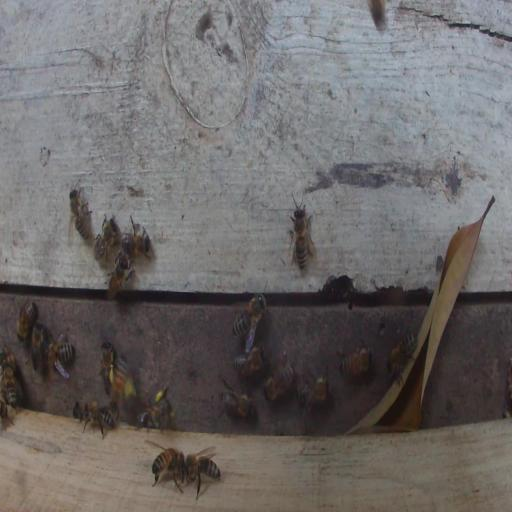bee: (289, 195, 315, 270), (184, 448, 220, 498), (232, 292, 267, 337), (220, 377, 256, 420), (68, 179, 92, 242), (387, 329, 418, 377), (107, 250, 136, 299), (296, 370, 331, 410), (151, 448, 182, 492), (46, 334, 75, 378), (121, 217, 151, 259), (262, 364, 295, 402), (110, 357, 133, 409), (94, 214, 119, 260), (234, 346, 265, 377), (30, 322, 49, 372), (1, 367, 21, 414), (17, 299, 38, 342), (77, 405, 114, 429), (148, 391, 169, 429), (340, 351, 370, 376), (366, 0, 386, 31), (101, 344, 113, 388), (1, 345, 17, 375)
